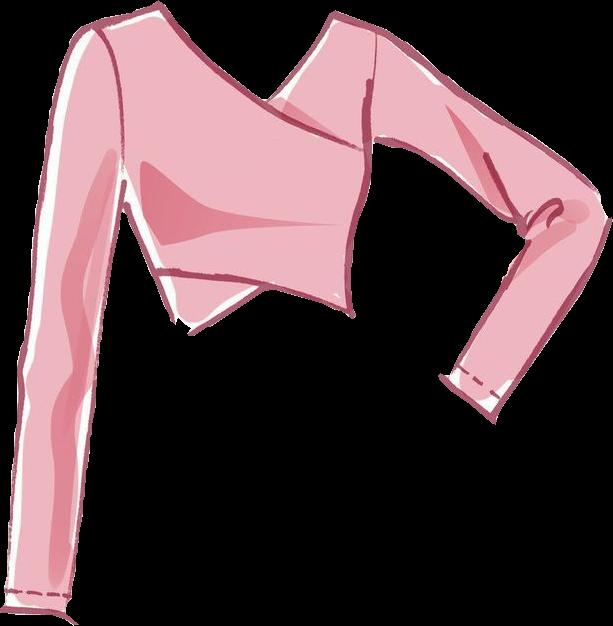Bodice: (92, 1, 380, 335)
Neckline: (159, 2, 335, 105)
Sleeve: (372, 27, 612, 423), (0, 23, 127, 616)
Sleeveline: (88, 23, 128, 204), (369, 25, 384, 139)
Waistline: (187, 282, 356, 336)
